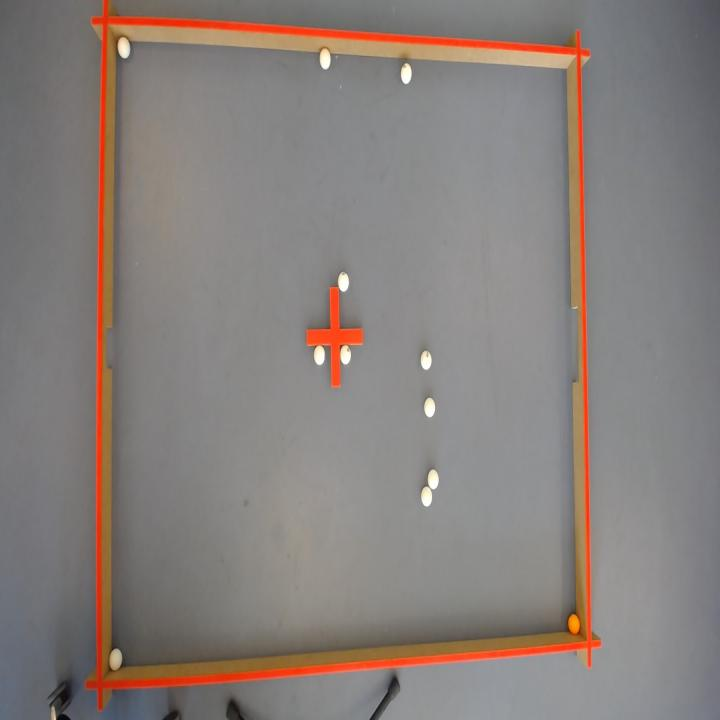orange: (569, 614, 581, 635)
white: (108, 649, 122, 672), (319, 45, 331, 68), (117, 35, 129, 57), (428, 469, 440, 490), (401, 60, 412, 82), (424, 397, 436, 417), (421, 349, 432, 369), (338, 271, 349, 291), (340, 345, 351, 364), (314, 345, 325, 364), (422, 486, 432, 506)
